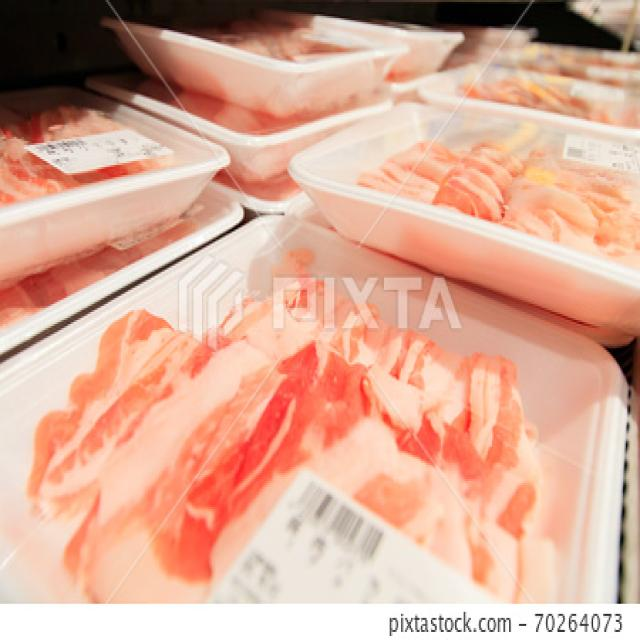pork: (26, 286, 606, 640), (240, 6, 640, 248), (0, 74, 213, 247)
